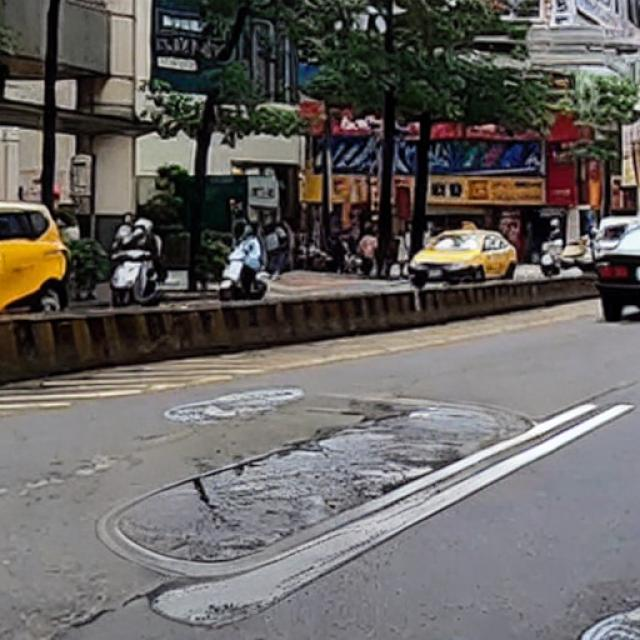puddle: (126, 404, 505, 564)
